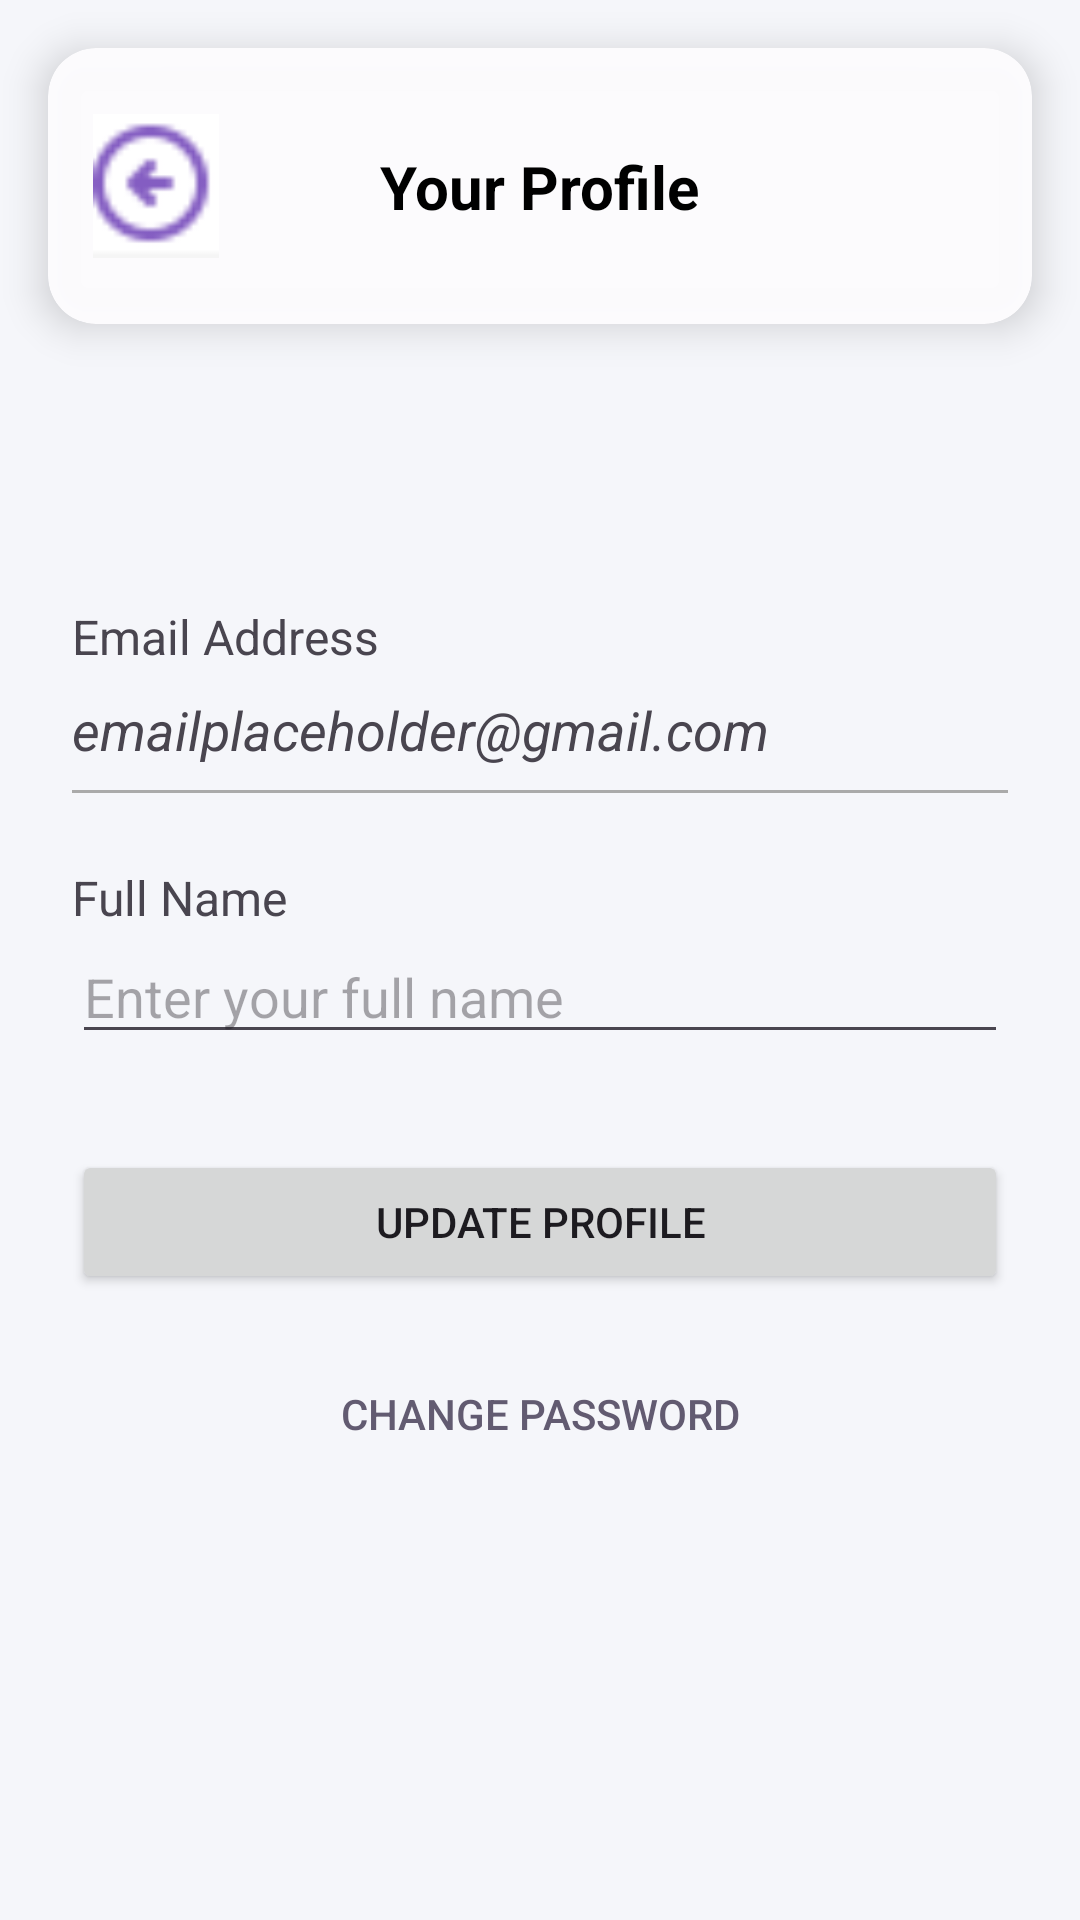

Icons on this 1080px×1920px Android screen, each with its box as bbox(x1, y1, x2, y2):
Back: bbox(93, 124, 210, 243)
